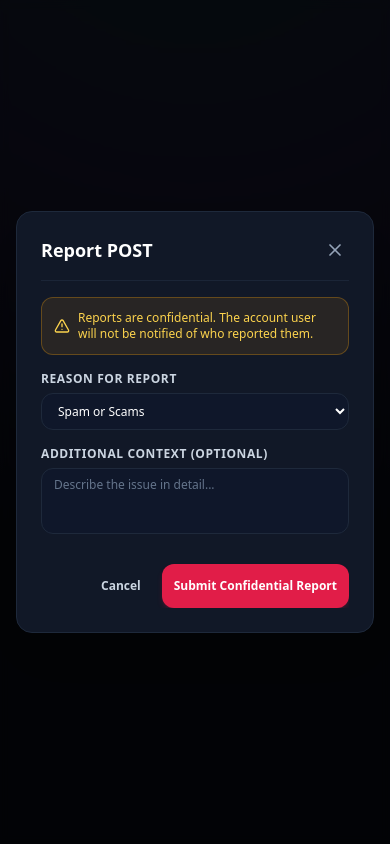
Test: Phase 5: Real Controls, APIs & Oracle Verification Suite › ReportModal Real API Integration › handles API error when reporting fails
Click the button "Submit Confidential Report": point(255, 586) [162,564,349,608]
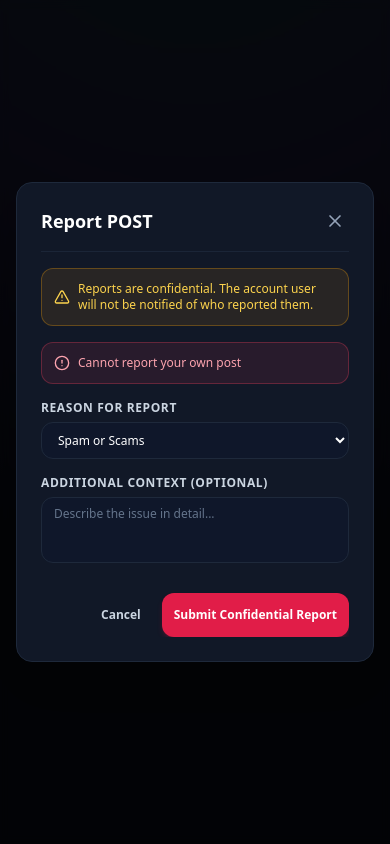
Now the text "Cannot report your own post" is shown, box [78,355,241,371]
